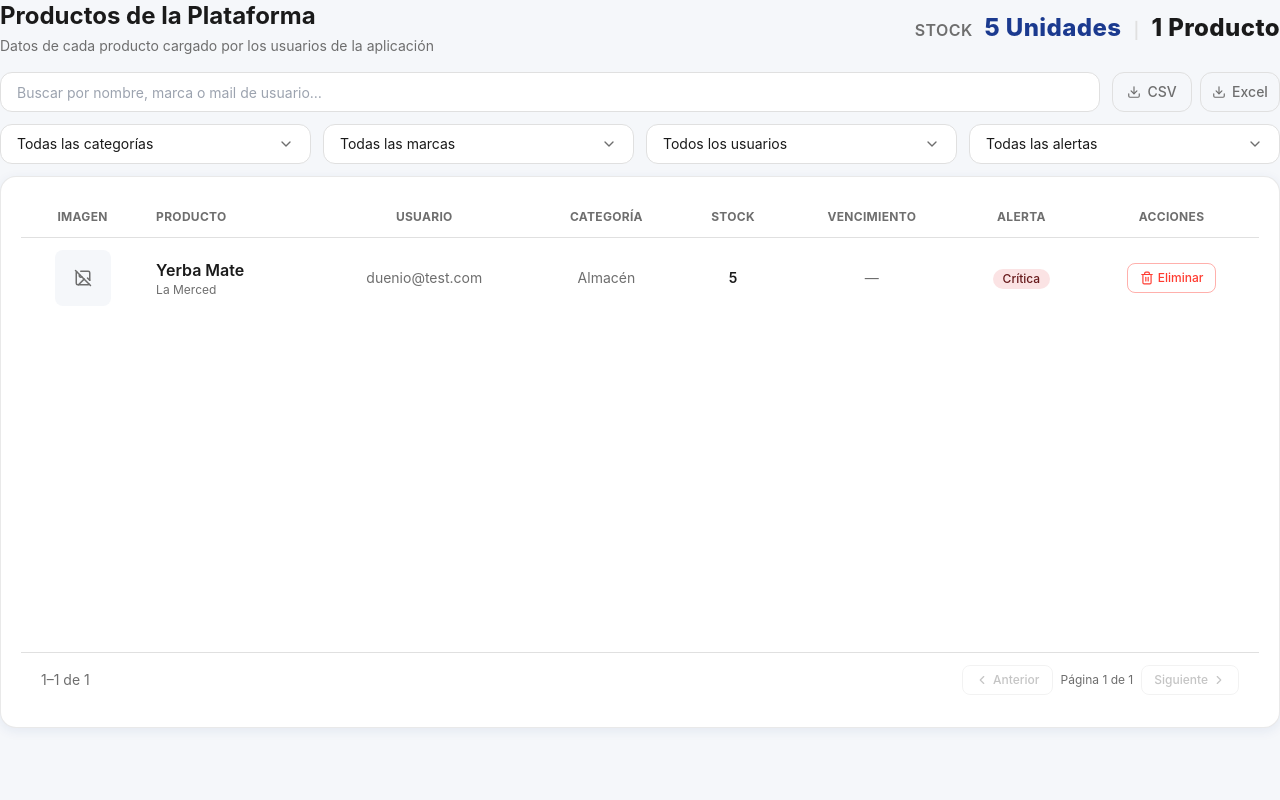
Test: Products (admin) - formato del inventario › al tocar un producto abre su información con el mail del usuario arriba de todo y su alerta
Click the row with test id "product-row-1" at {"x": 83, "y": 278}, box [21, 238, 1259, 318]
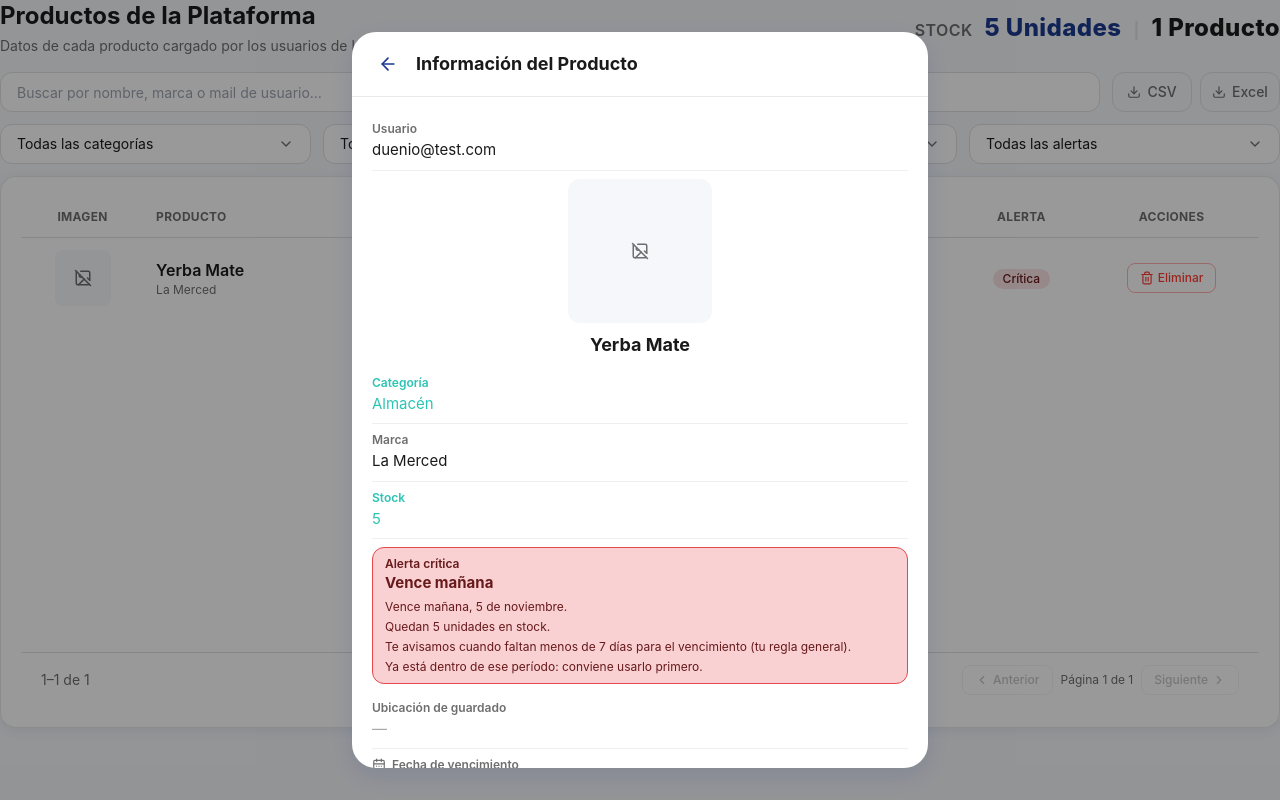
expect the element with test id "product-detail-owner" reads "duenio@test.com": met, box [372, 140, 496, 159]
expect the heading with test id "product-detail-name" reads "Yerba Mate": met, box [590, 334, 690, 354]
